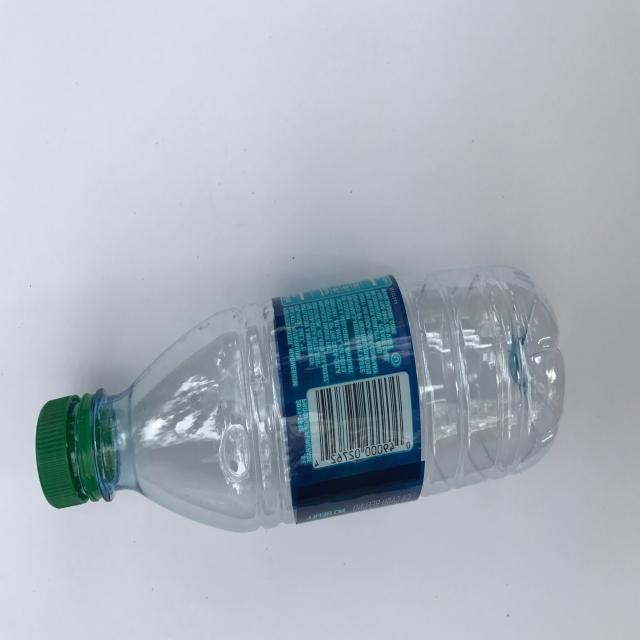plastic: (35, 264, 566, 532)
